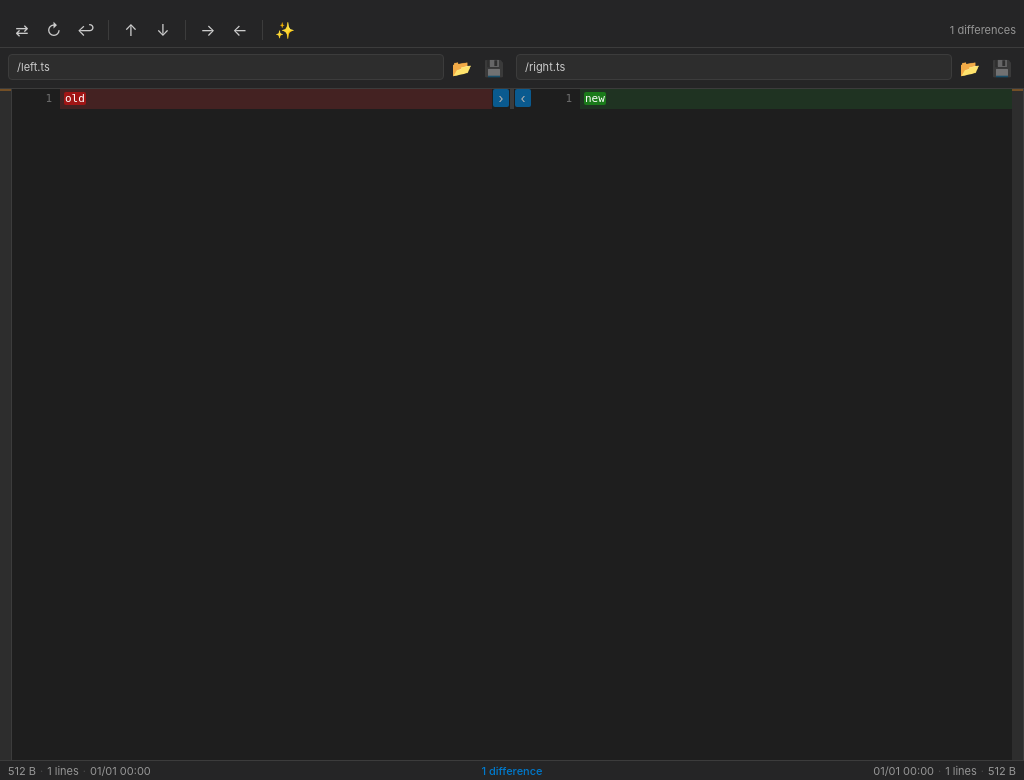
Test: Copy All Left → Right / Right → Left (feature 5.3) › copies all right content to left: left becomes dirty
Step 1. Click the button "←" → (240, 30), box [226, 16, 254, 44]
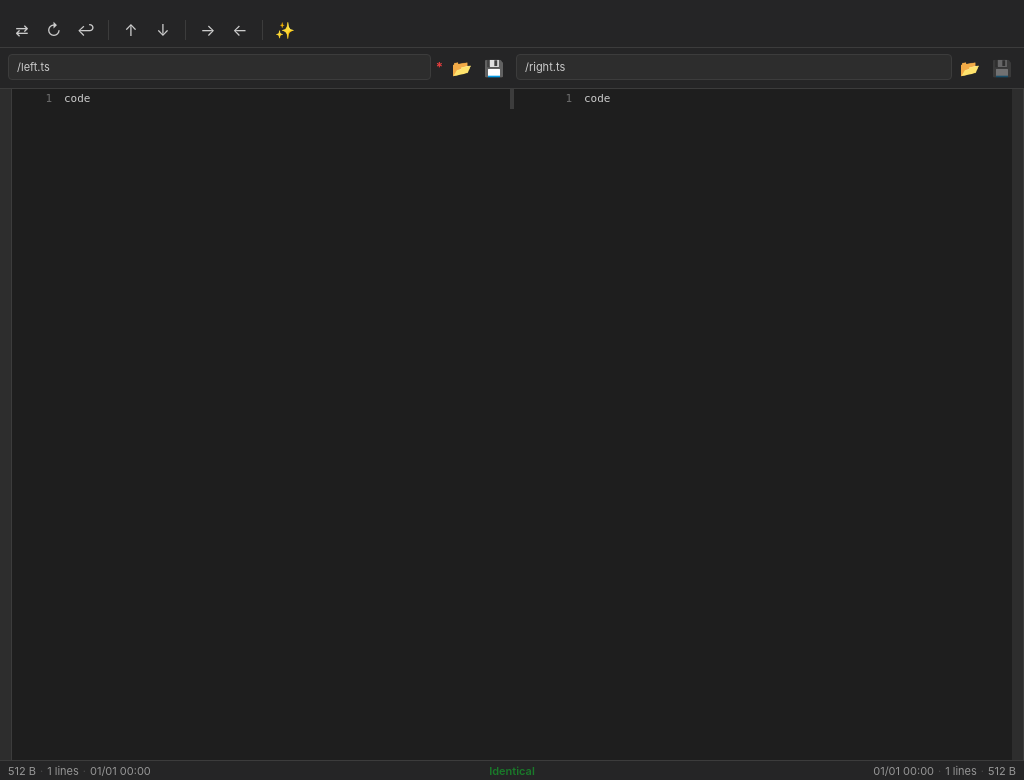
Now the 1st button "💾" is enabled, box [480, 54, 508, 82]
